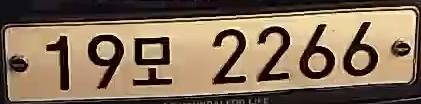1: (40, 29, 80, 95)
2: (210, 26, 251, 88), (255, 22, 295, 84)
6: (298, 19, 338, 84), (341, 17, 382, 80)
9: (84, 29, 128, 93)
모: (130, 30, 179, 92)
